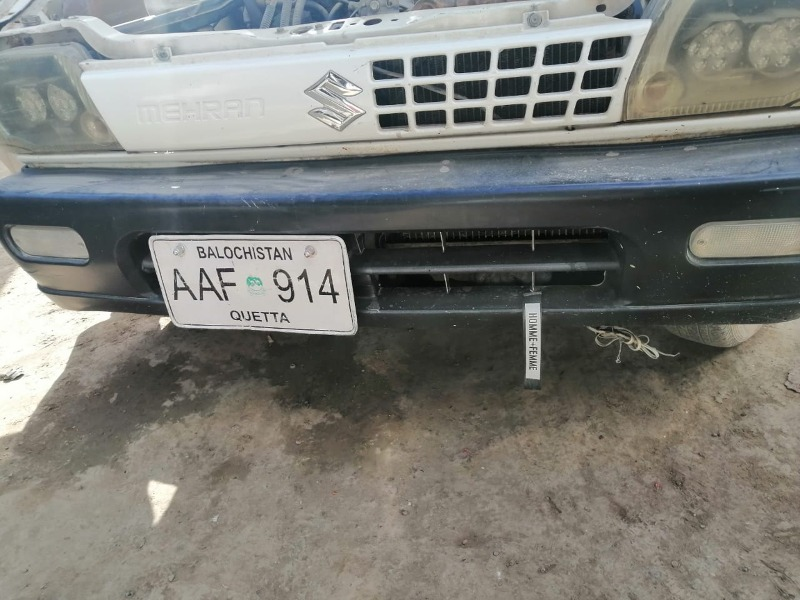License Plate: (145, 230, 362, 339)
